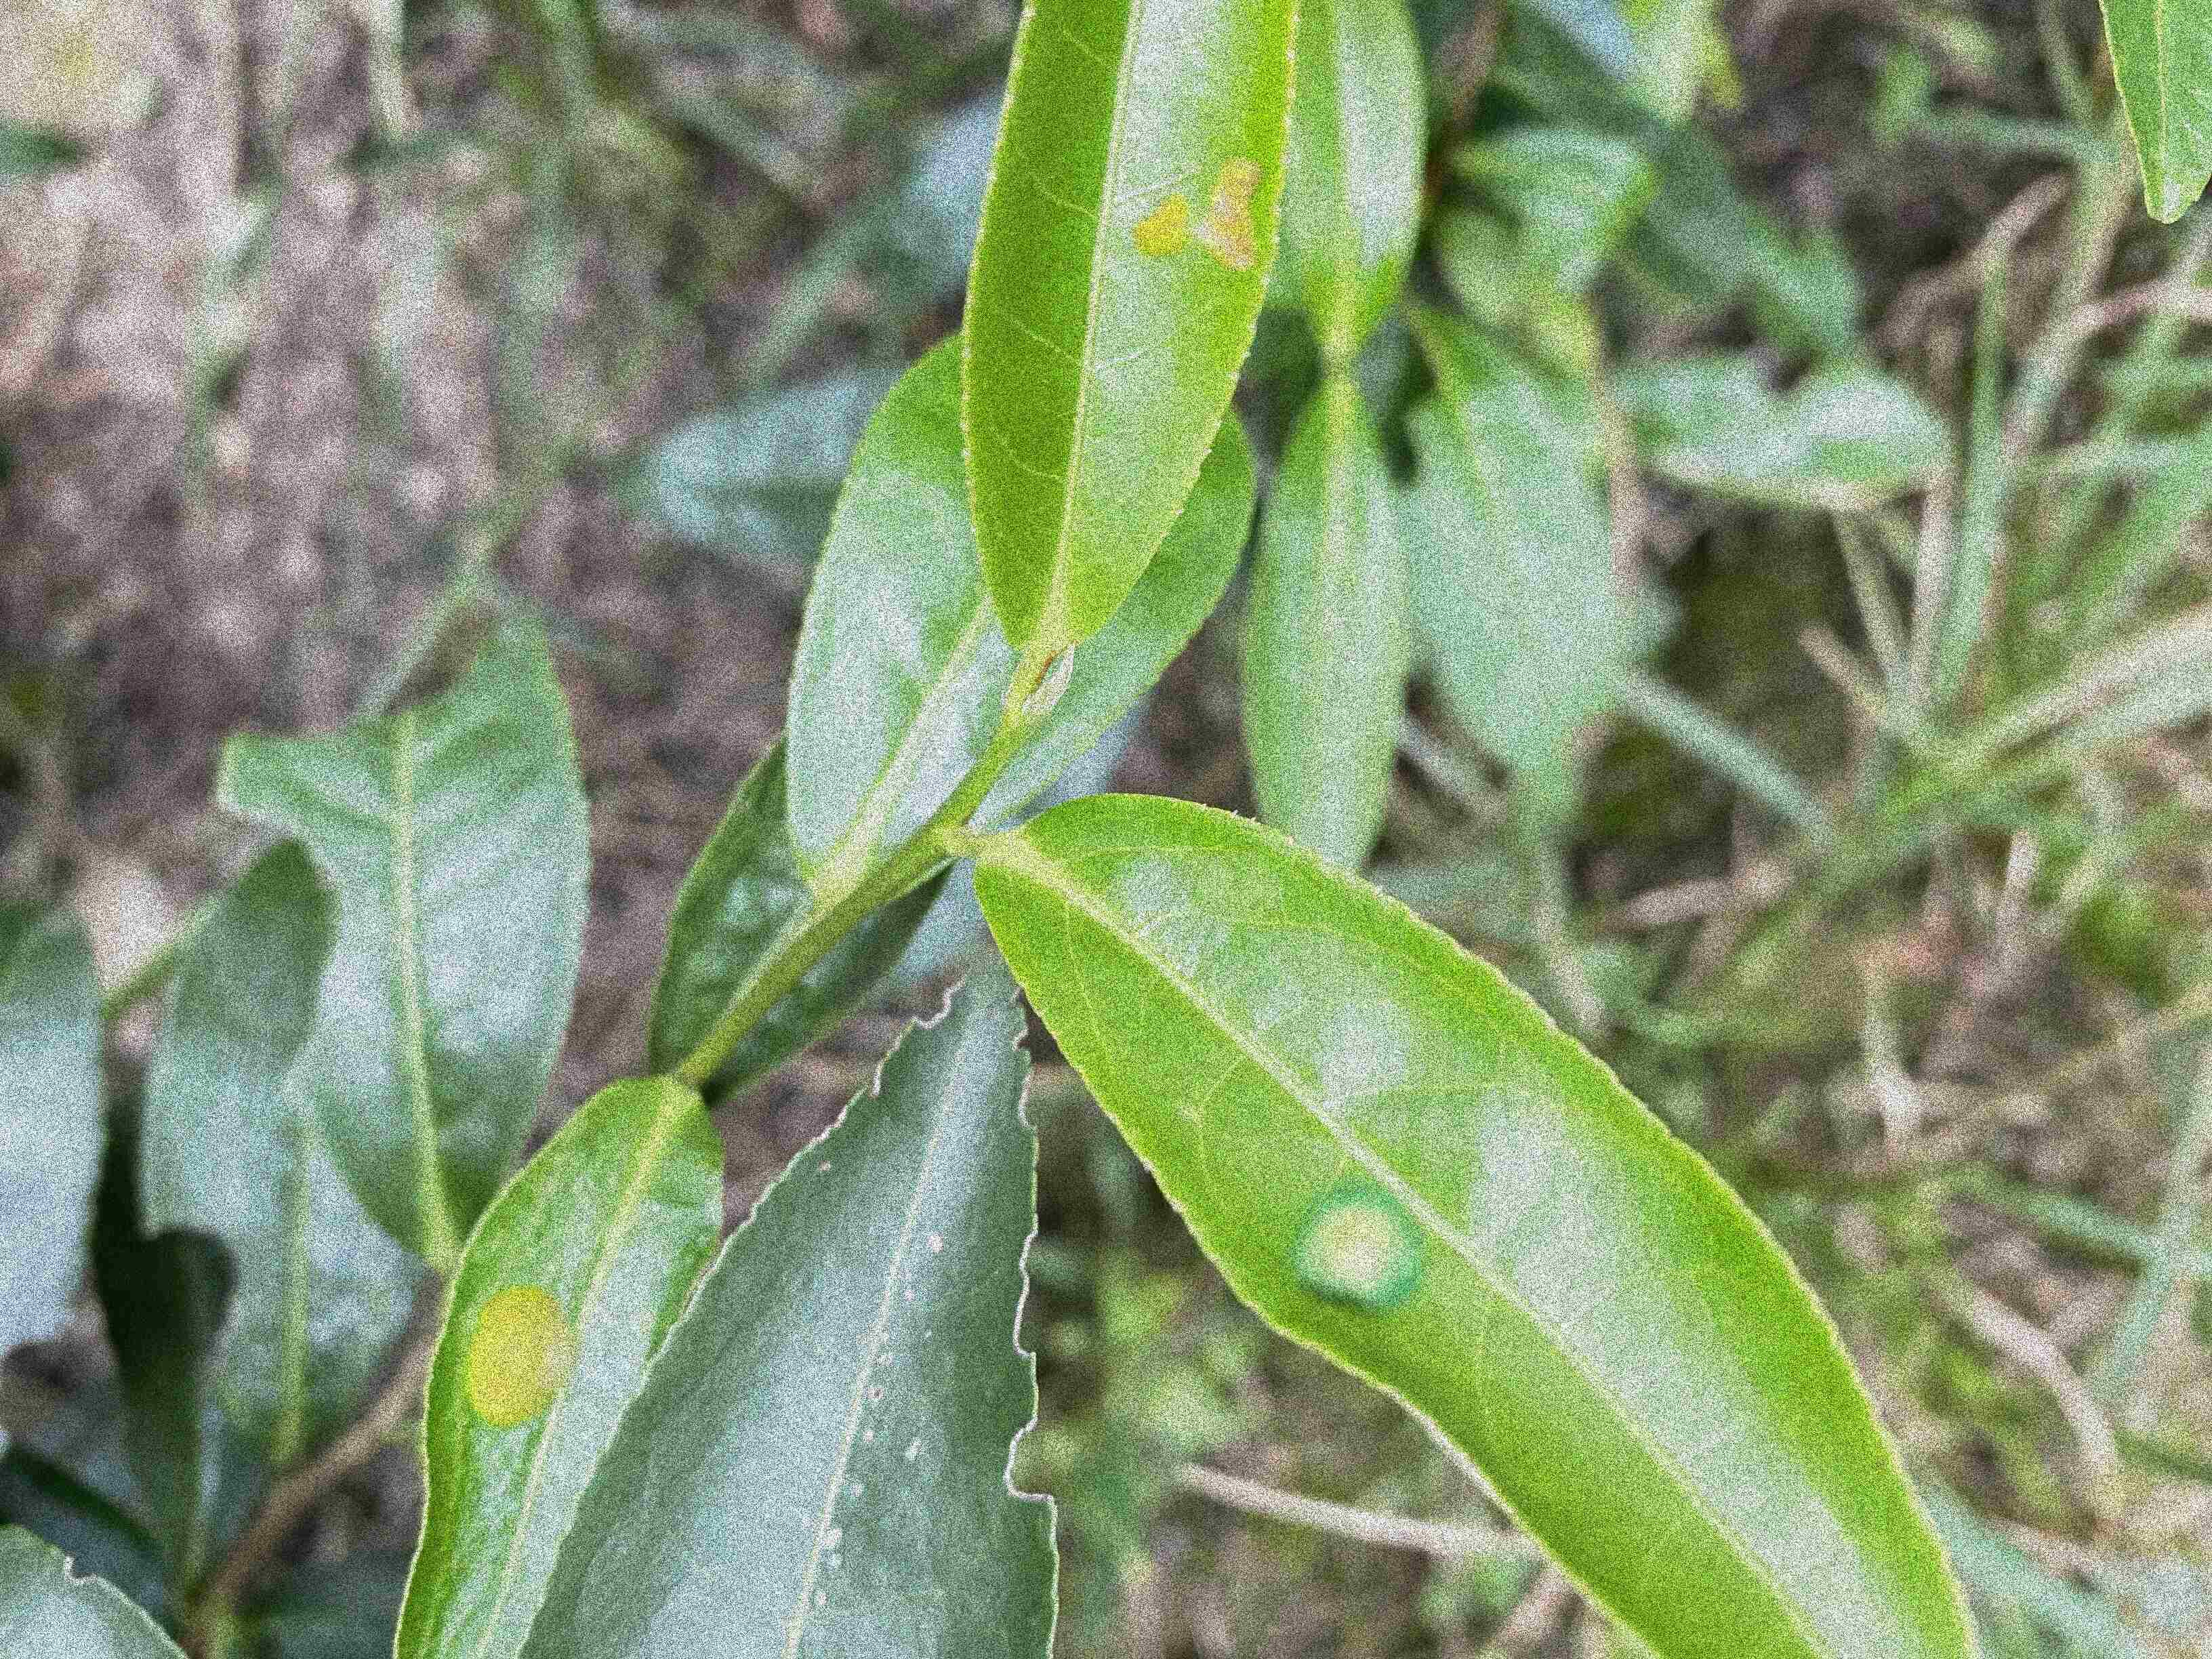chabing_high: (958, 3, 1299, 659)
chabing_low: (975, 791, 1980, 1657), (390, 1077, 725, 1657)
chihuo_high: (516, 964, 1062, 1654)
